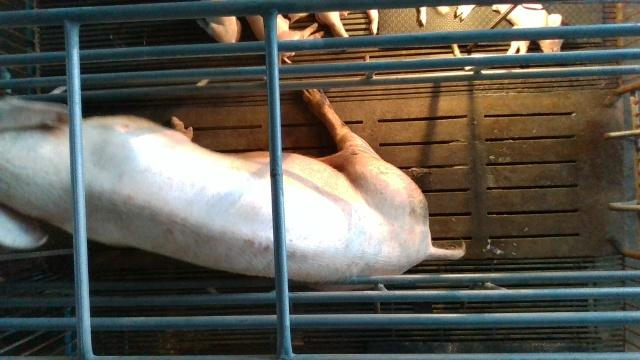piglet: (244, 13, 323, 63), (492, 4, 565, 55), (198, 16, 243, 47)
sow-sit: (0, 90, 467, 290)
